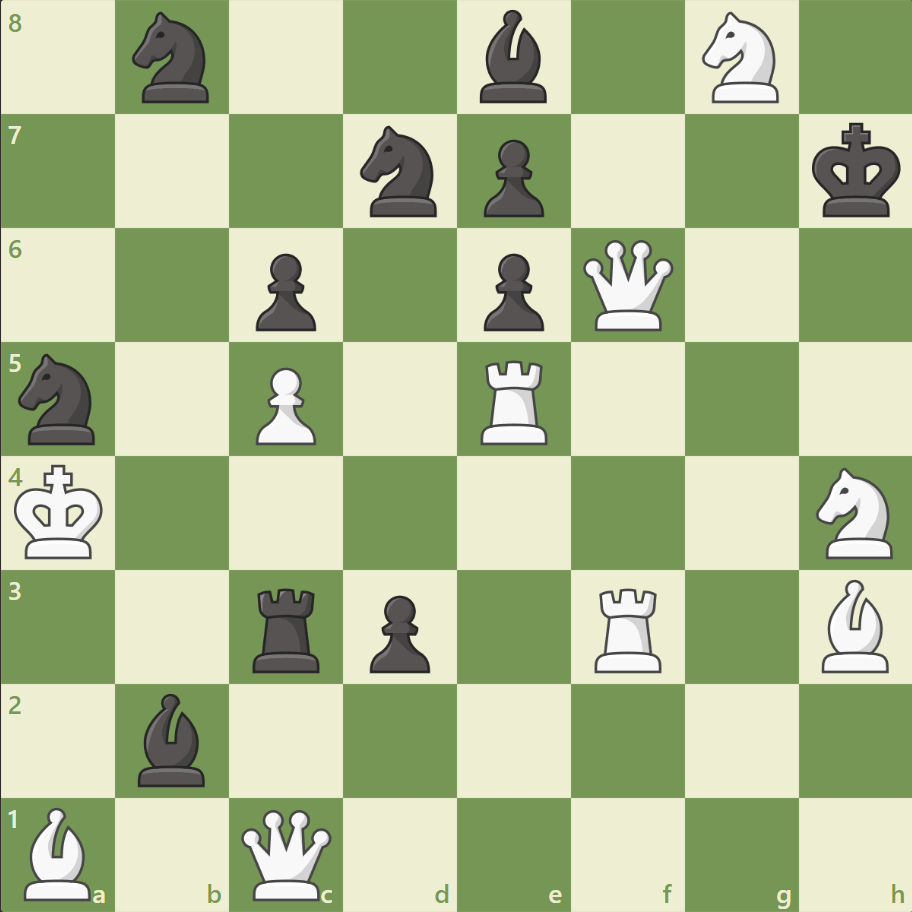B: (17, 801, 101, 904), (812, 574, 896, 676)
K: (11, 458, 111, 566)
N: (692, 7, 789, 110), (806, 461, 903, 564)
P: (247, 359, 322, 450)
Q: (578, 236, 677, 335), (237, 804, 336, 903)
R: (473, 352, 556, 449), (587, 579, 670, 676)
b: (471, 6, 555, 109), (131, 687, 215, 790)
k: (806, 117, 906, 225)
n: (124, 7, 222, 110), (351, 121, 449, 223), (11, 348, 108, 450)
p: (474, 132, 549, 223), (247, 246, 322, 337), (474, 246, 549, 337), (361, 586, 435, 677)
r: (246, 579, 329, 676)
